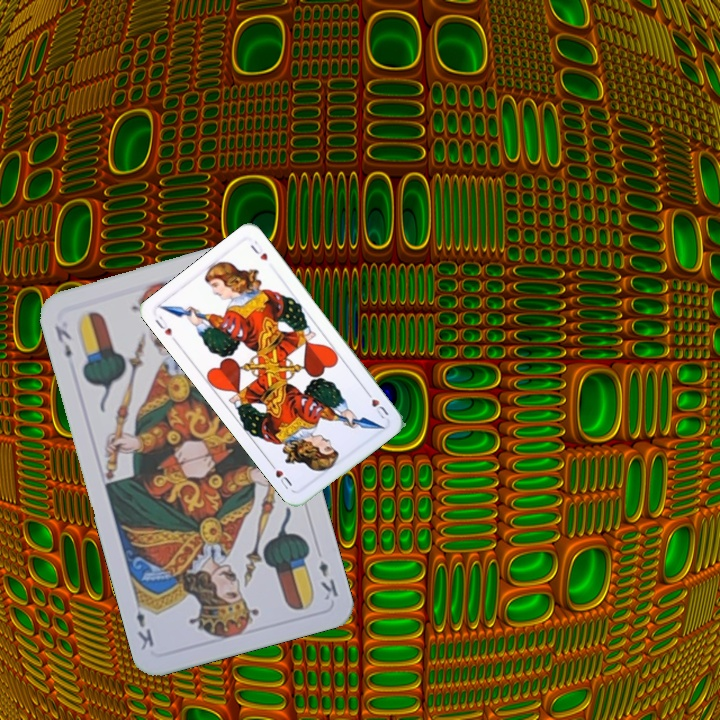EK: (315, 557, 341, 603), (50, 321, 74, 361)
HU: (361, 386, 391, 422), (151, 312, 175, 339)
